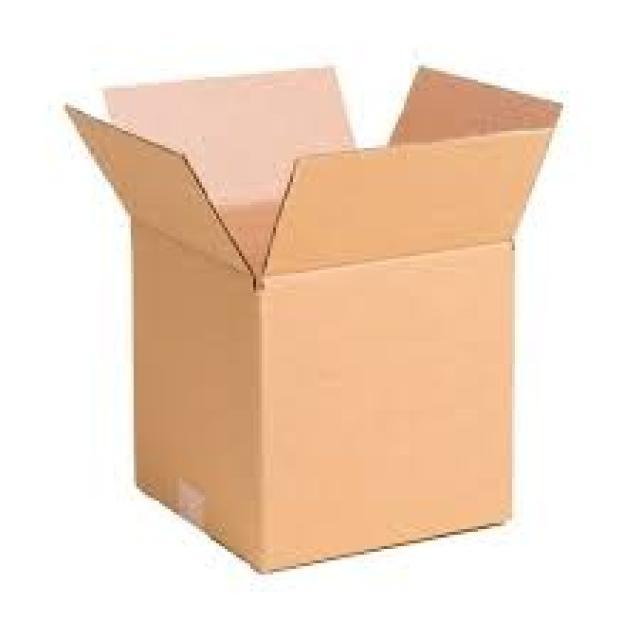Cardboard: (59, 66, 560, 575)
